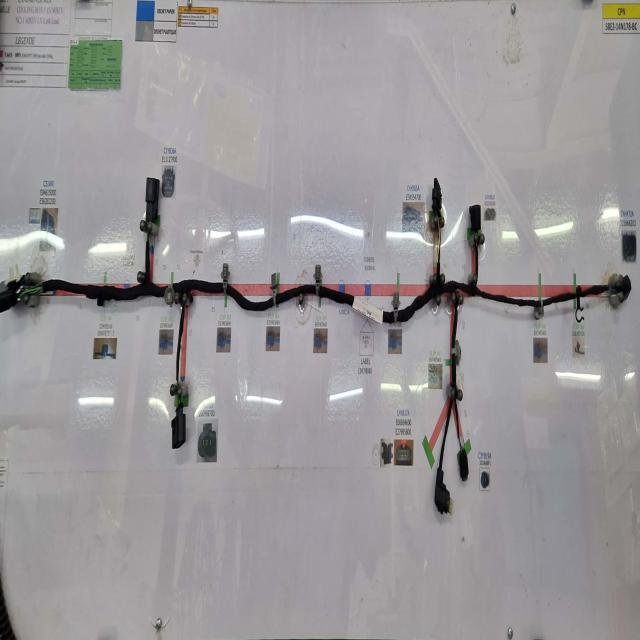Clip: (221, 262, 230, 306), (575, 287, 584, 322), (450, 340, 461, 366), (314, 265, 322, 296), (392, 294, 400, 322), (534, 298, 544, 318), (165, 287, 175, 306), (98, 283, 105, 306)
Connector: (140, 177, 160, 233), (435, 467, 452, 514), (0, 275, 19, 312), (171, 407, 186, 448), (431, 177, 442, 217), (469, 205, 481, 236), (458, 451, 469, 482), (622, 274, 631, 299)
Gape: (16, 272, 41, 306), (606, 269, 620, 309), (434, 212, 444, 264), (172, 378, 183, 404), (457, 441, 465, 455), (147, 226, 152, 241)
Info: (352, 296, 382, 325)
MHEV_N11_Cable: (276, 277, 540, 325), (41, 277, 165, 306), (451, 296, 462, 441), (174, 277, 224, 306), (543, 286, 609, 306), (228, 284, 274, 312), (439, 397, 452, 473), (176, 299, 185, 381), (145, 236, 150, 284), (475, 249, 479, 287), (435, 262, 441, 287), (412, 284, 420, 293)
